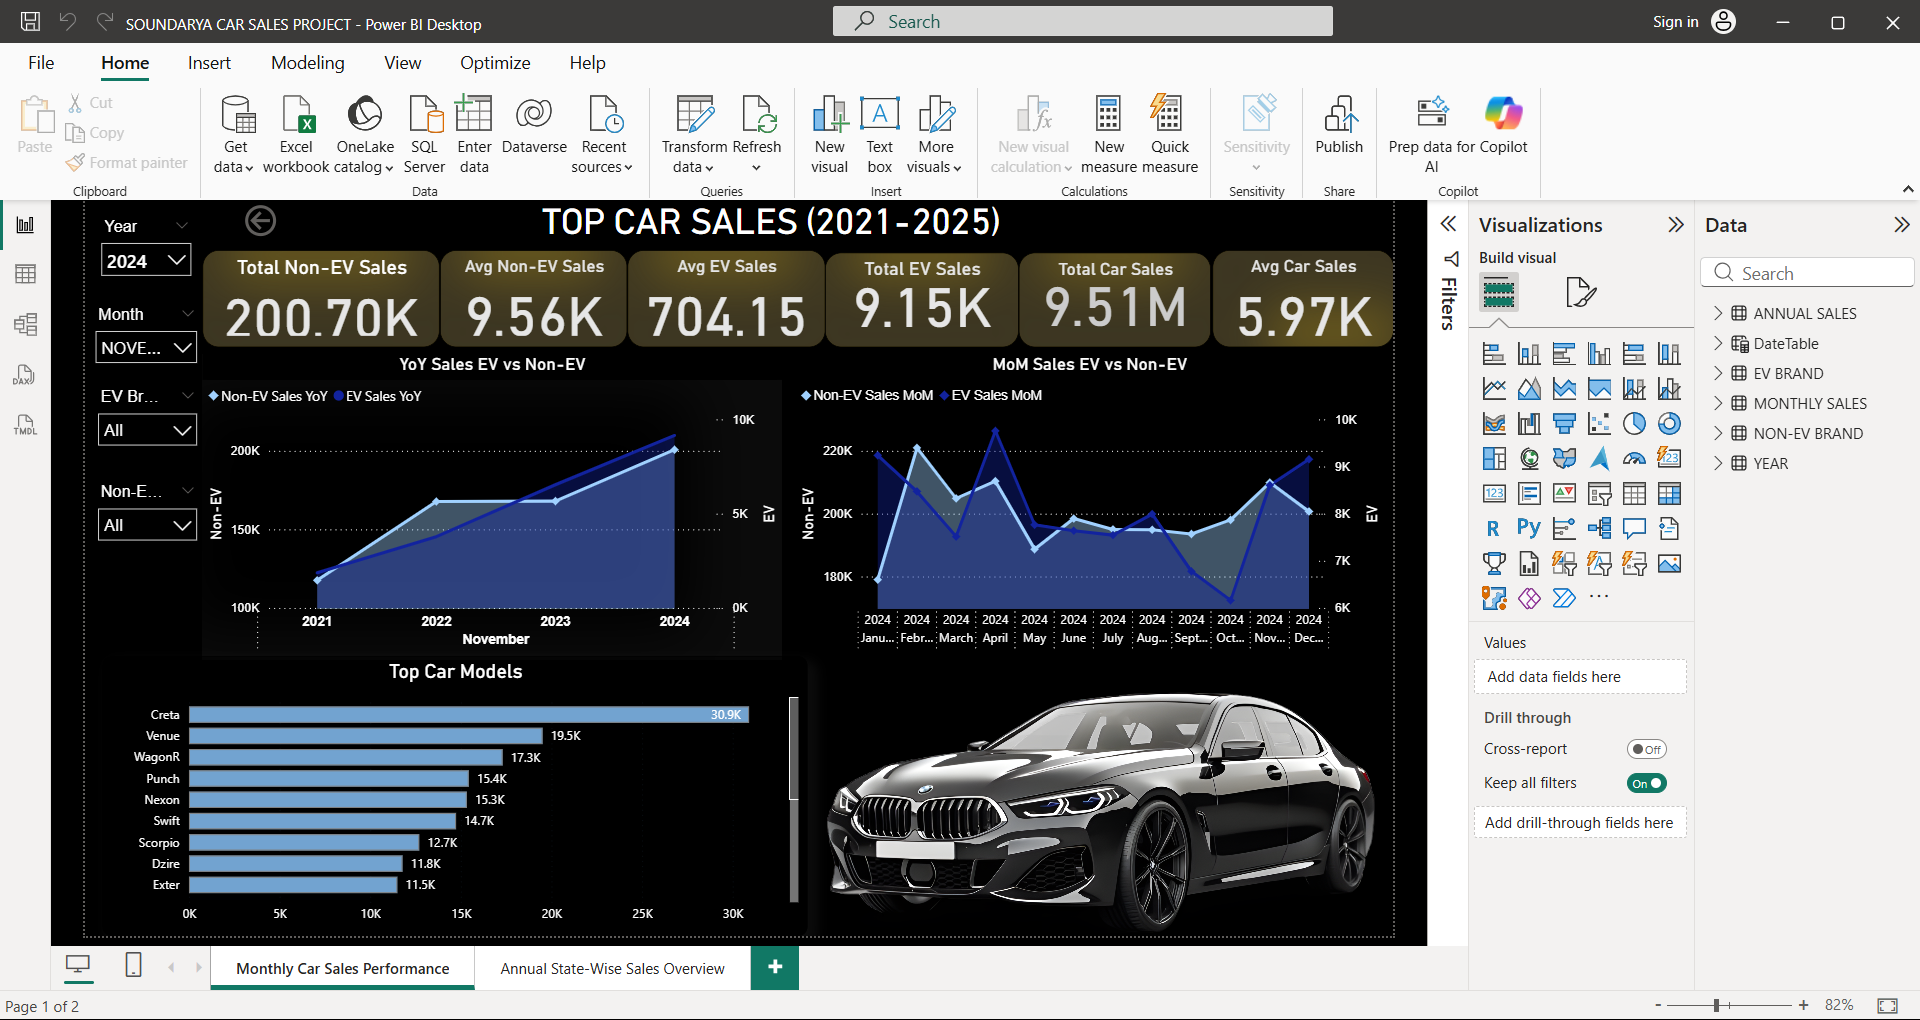

What the dashboard file says about the page in this screenshot:
{"tool":"powerbi","page":{"name":"Monthly Car Sales Performance","canvas":[1280,720],"ordinal":0},"visuals":[{"type":"slicer","fields":{"Values":["EV BRAND.Brand"]},"box":[2.4,178.5,117.4,84.4],"z":0},{"type":"slicer","fields":{"Values":["MONTHLY SALES.Month"]},"box":[0,97.8,119.8,80.7],"z":1000},{"type":"slicer","fields":{"Values":["YEAR.Year"]},"box":[0,6.1,119.8,90.5],"z":2000},{"type":"card","title":"Avg Car Sales","fields":{"Values":["MONTHLY SALES.AVG CAR SALES"]},"box":[1103,48.9,177.3,95.4],"z":3000},{"type":"card","title":"Avg Non-EV Sales","fields":{"Values":["MONTHLY SALES.AVG NON-EV SALES"]},"box":[347.3,48.9,183.4,95.4],"z":4000},{"type":"card","title":"Avg EV Sales","fields":{"Values":["MONTHLY SALES.AVG EV SALES"]},"box":[530.7,48.9,193.2,95.4],"z":5000},{"type":"card","title":"Total Car Sales","fields":{"Values":["MONTHLY SALES.TOTAL CAR SALES"]},"box":[913.5,51.4,188.3,92.9],"z":6000},{"type":"card","title":"Total EV Sales","fields":{"Values":["MONTHLY SALES.TOTAL EV SALES"]},"box":[723.9,51.4,189.5,92.9],"z":7000},{"type":"card","title":"Total Non-EV Sales","fields":{"Values":["MONTHLY SALES.TOTAL NON-EV SALES"]},"box":[114.9,48.9,232.3,95.4],"z":8000},{"type":"slicer","fields":{"Values":["NON-EV BRAND.Brand"]},"box":[2.4,271.5,117.4,77],"z":9000},{"type":"shape","title":"TOP CAR SALES (2021-2025)","box":[298.4,0,744.7,48.9],"z":10000},{"type":"actionButton","box":[151.6,0,100.3,40.4],"z":11000},{"type":"lineChart","title":"YoY Sales EV vs Non-EV","fields":{"Y":["MONTHLY SALES.Non-EV Sales YoY"],"Y2":["MONTHLY SALES.EV Sales YoY"],"Category":["DateTable.Month Name","YEAR.Year"]},"box":[114.9,150.4,567.4,299.6],"z":12000},{"type":"lineChart","title":"MoM Sales EV vs Non-EV","fields":{"Y":["MONTHLY SALES.MoM NonEV Sales"],"Y2":["MONTHLY SALES.MoM EV Sales"],"Category":["DateTable.Month Name","YEAR.Year"]},"box":[694.6,150.4,577.2,299.6],"z":13000},{"type":"clusteredBarChart","title":"Top Car Models","fields":{"Y":["Sum(MONTHLY SALES.Monthly Sales)"],"Category":["MONTHLY SALES.Model"]},"box":[17.1,446.3,689.7,273.9],"z":14000},{"type":"image","box":[706.8,446.3,573.5,270.2],"z":15000}]}

Visuals, with their boxes on the page's 1280x720 design canvas (x1, y1, x2, y2). These are canvas units, not pixel positions in the 1920x1020 screenshot, which may show the page scaled, cropped or inside an application window:
slicer - EV BRAND.Brand: <bbox>2, 178, 120, 263</bbox>
slicer - MONTHLY SALES.Month: <bbox>0, 98, 120, 178</bbox>
slicer - YEAR.Year: <bbox>0, 6, 120, 97</bbox>
"Avg Car Sales" card: <bbox>1103, 49, 1280, 144</bbox>
"Avg Non-EV Sales" card: <bbox>347, 49, 531, 144</bbox>
"Avg EV Sales" card: <bbox>531, 49, 724, 144</bbox>
"Total Car Sales" card: <bbox>914, 51, 1102, 144</bbox>
"Total EV Sales" card: <bbox>724, 51, 913, 144</bbox>
"Total Non-EV Sales" card: <bbox>115, 49, 347, 144</bbox>
slicer - NON-EV BRAND.Brand: <bbox>2, 272, 120, 348</bbox>
"TOP CAR SALES (2021-2025)" shape: <bbox>298, 0, 1043, 49</bbox>
actionButton: <bbox>152, 0, 252, 40</bbox>
"YoY Sales EV vs Non-EV" lineChart: <bbox>115, 150, 682, 450</bbox>
"MoM Sales EV vs Non-EV" lineChart: <bbox>695, 150, 1272, 450</bbox>
"Top Car Models" clusteredBarChart: <bbox>17, 446, 707, 720</bbox>
image: <bbox>707, 446, 1280, 716</bbox>
